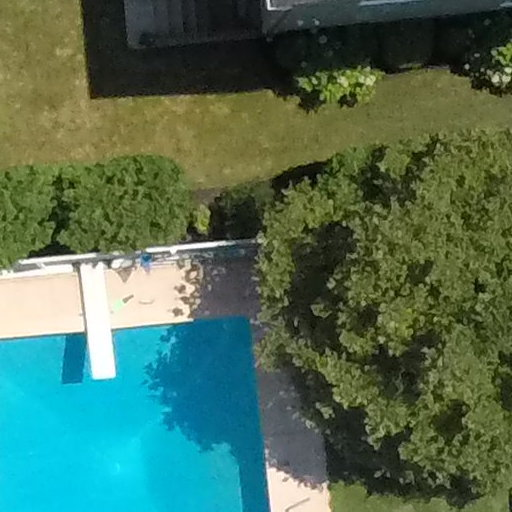pool: (1, 232, 345, 512)
